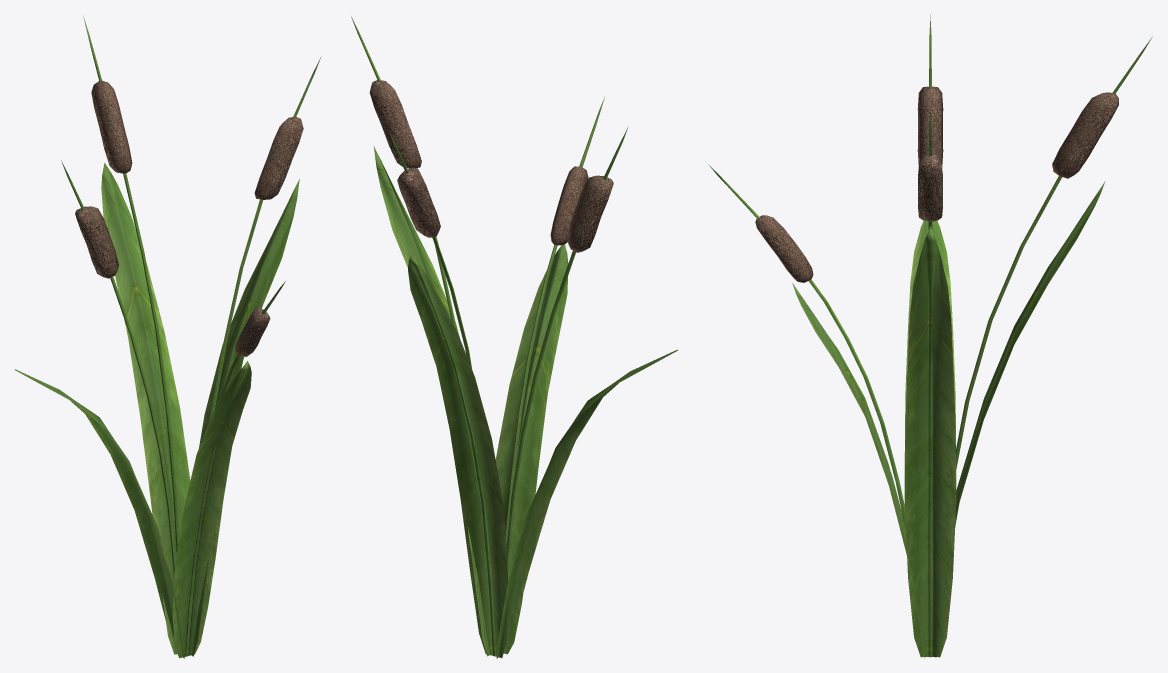
Rendered from cattail-plant-c50630.glb.
3 views of the same model, side by side, from view 1: azimuth 30°, elevation 25°; view 2: azimuth 150°, elevation 25°; view 3: azimuth 270°, elevation 25° (orthographic). The views are drawn at different scales.
Visible parts, largest first — view 1: _01_0, _01_1; view 2: _01_0, _01_1; view 3: _01_0, _01_1.
Part boxes in pixels (x1=…): _01_0: x1=15, y1=16, x2=321, y2=658; _01_1: x1=75, y1=80, x2=303, y2=356; _01_0: x1=351, y1=16, x2=678, y2=658; _01_1: x1=369, y1=80, x2=613, y2=252; _01_0: x1=708, y1=14, x2=1152, y2=658; _01_1: x1=755, y1=86, x2=1118, y2=282.
Bounding box in the file's own units: 0.6947 × 1.22 × 0.7961.
2 materials, 2 textured.
